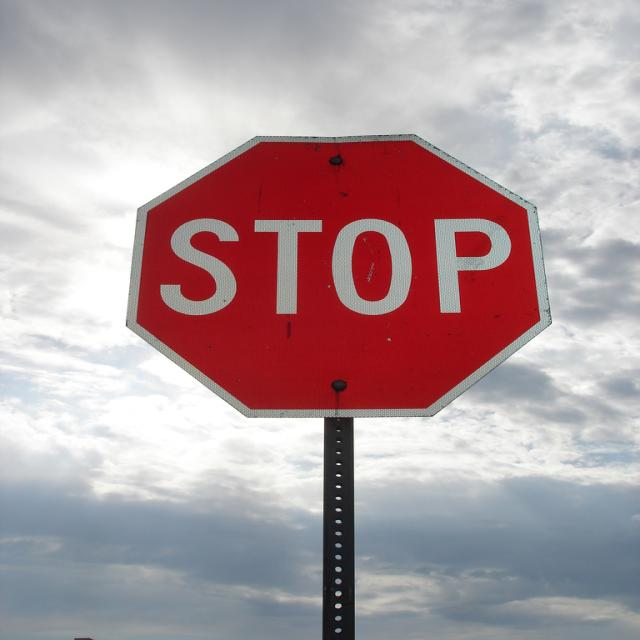Stop-sign: (124, 132, 552, 418)
